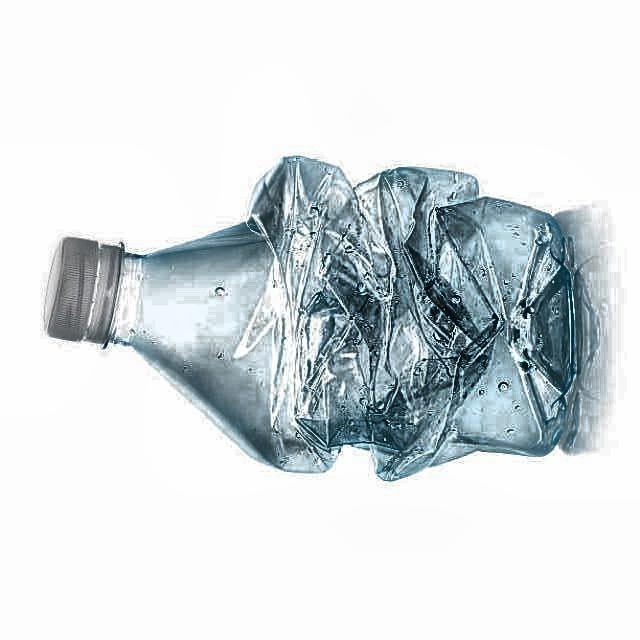plastic: (45, 156, 584, 480)
